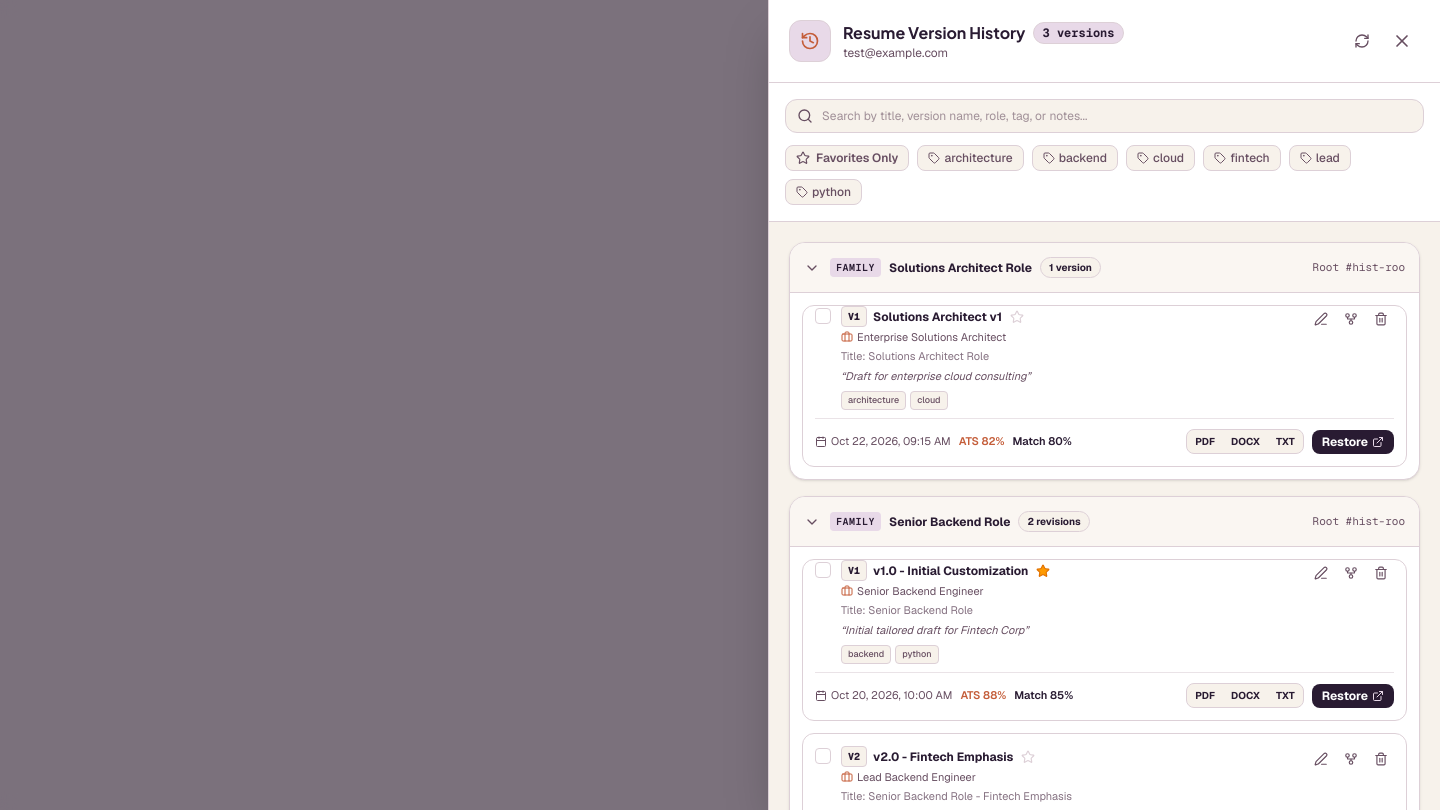
Test case: HistoryDrawer Component › filters by starred/favorite status
Expected: the text "Solutions Architect Role" is shown, x1=889 y1=260 x2=1032 y2=276
Click the button "Favorites Only" at {"x": 847, "y": 158}, box x1=785 y1=145 x2=909 y2=171
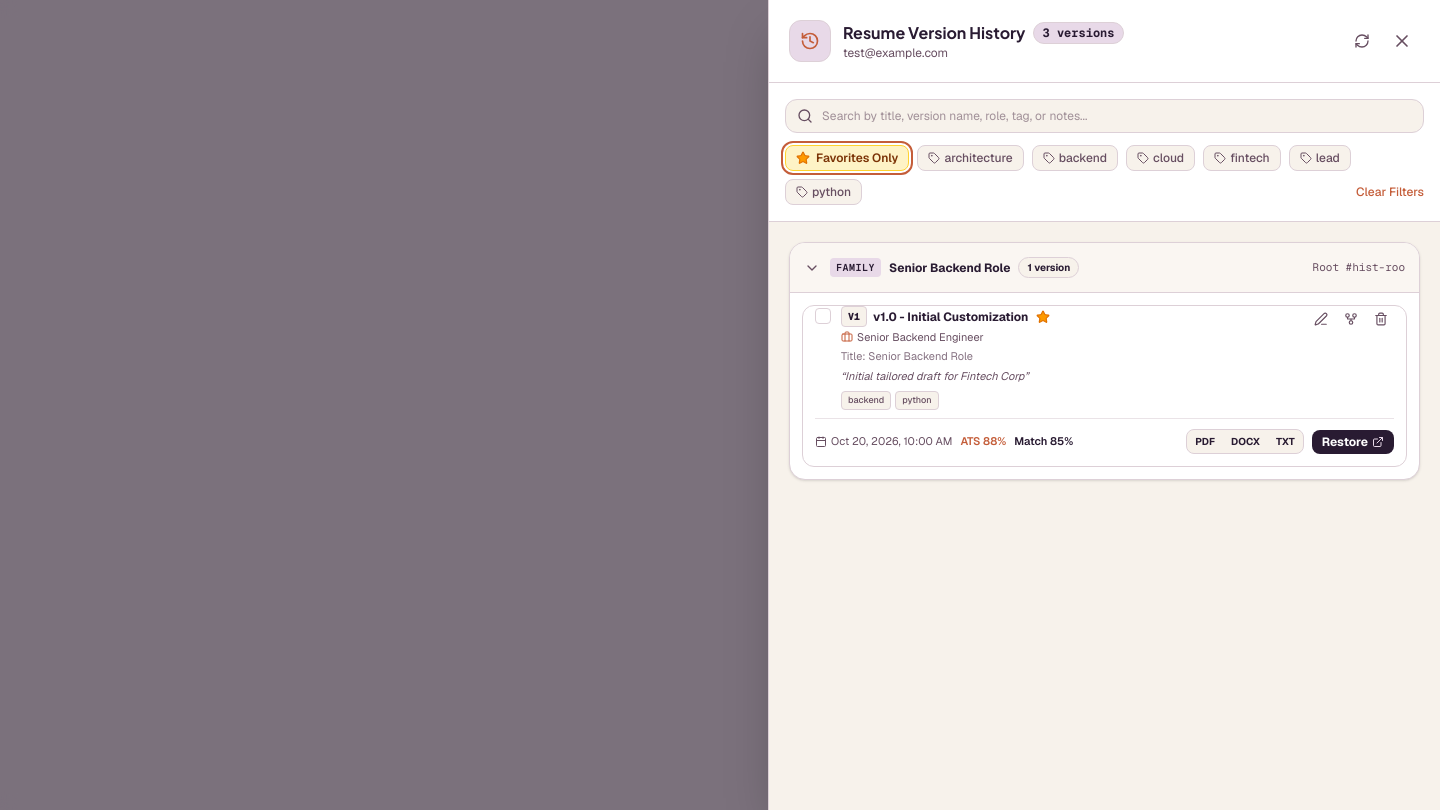
Expected: the heading "v1.0 - Initial Customization" is shown, x1=873 y1=308 x2=1028 y2=324
Now the text "Solutions Architect Role" is gone
